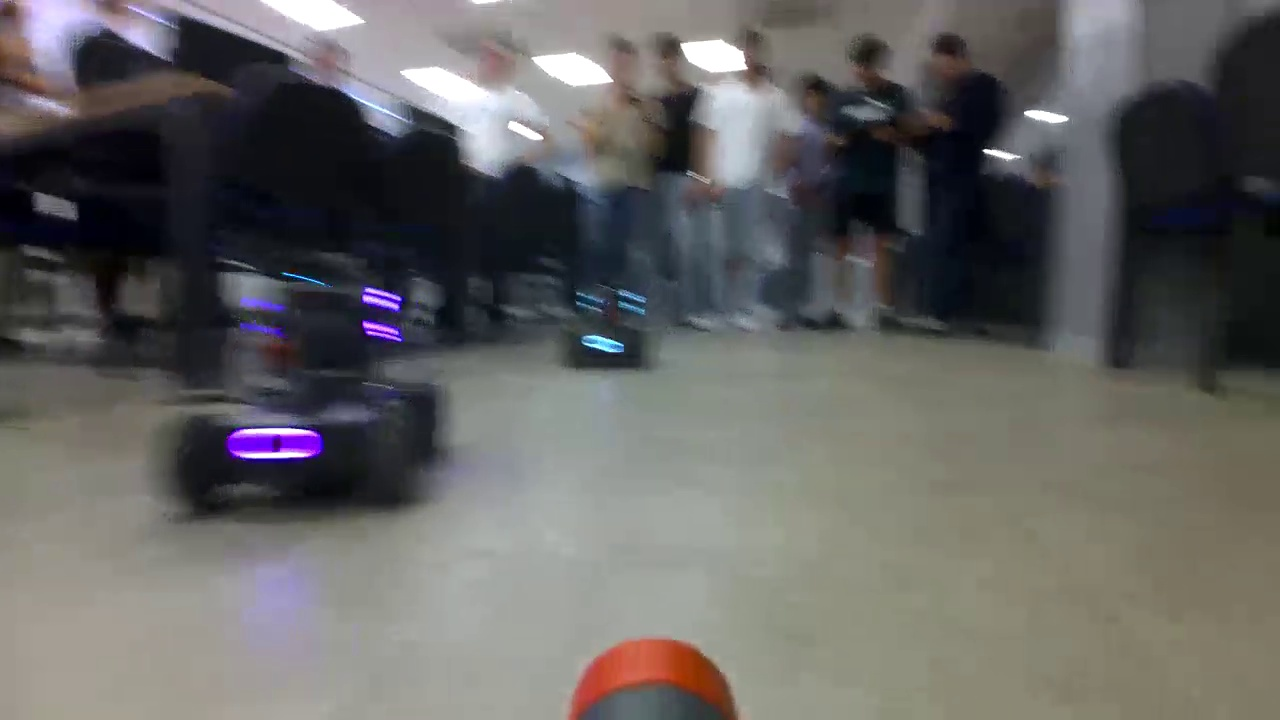robot: (172, 245, 442, 510), (570, 282, 656, 366)
